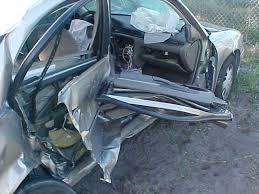Smashed: (1, 1, 218, 192)
